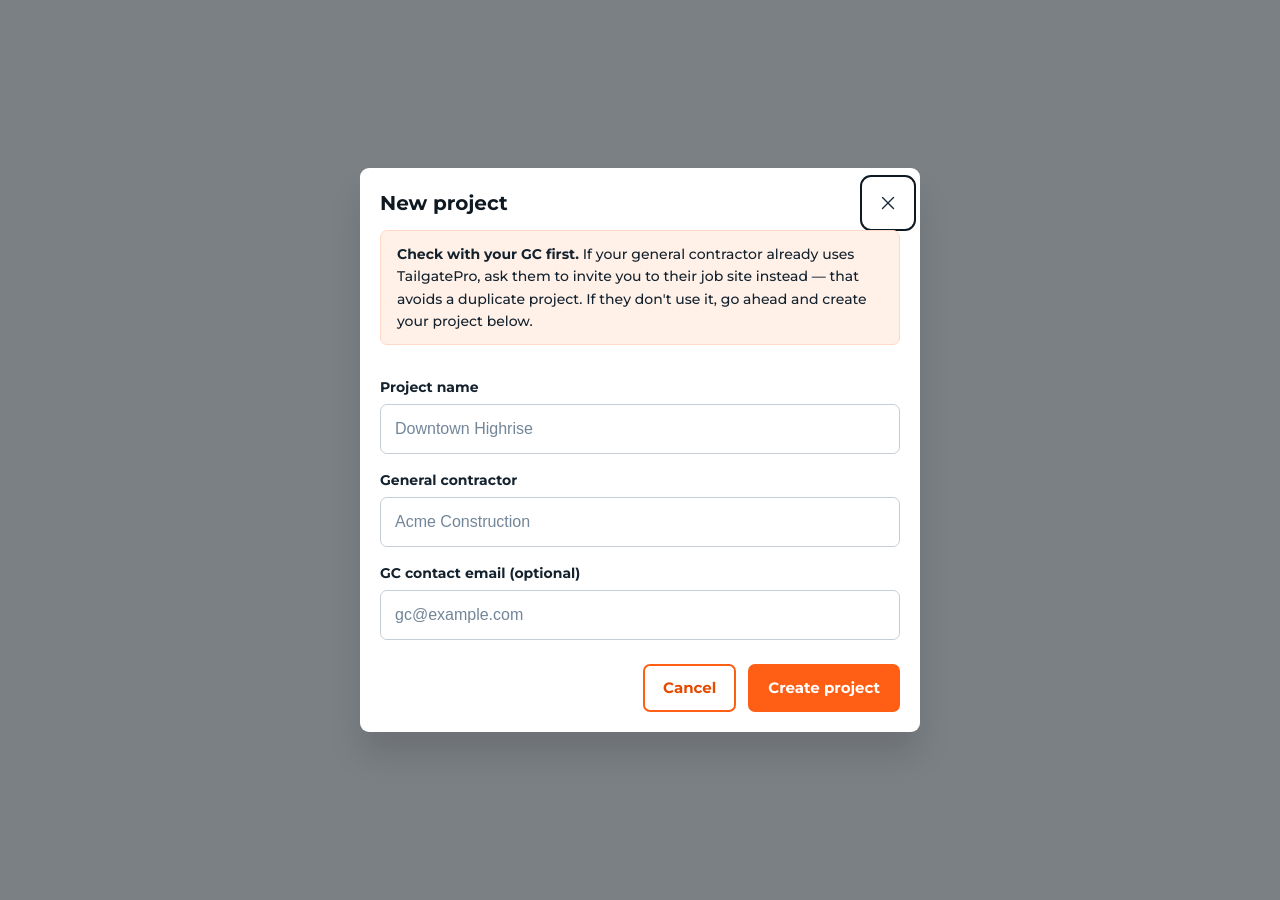
it: ProjectForm › shows validation errors and does not submit when fields are empty
The image size is (1280, 900).
Click the button "Create project". click: (824, 688)
box: [748,664,900,712]
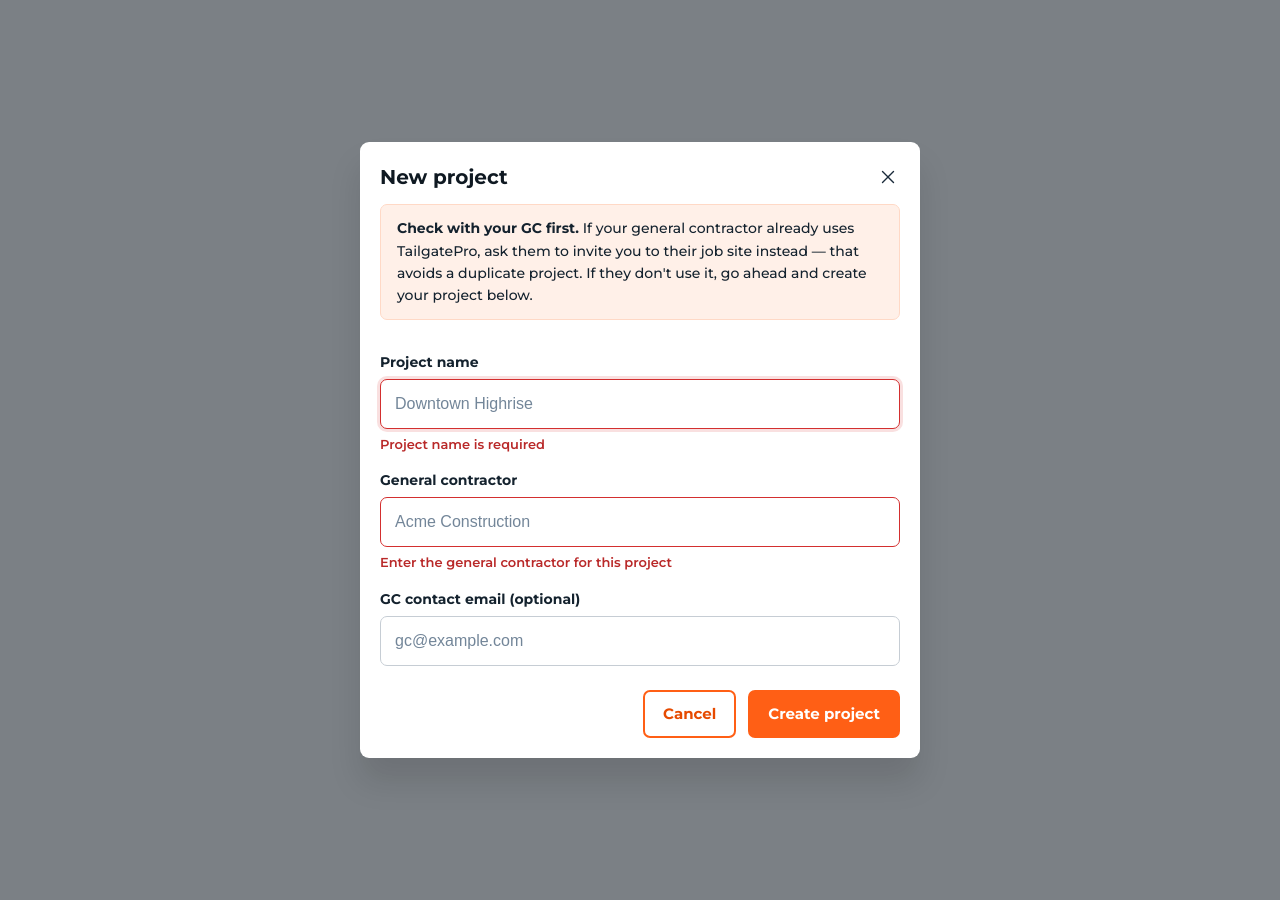
Expected: the text "Project name is required" is shown, [380,436,545,452]
Expected: the text "Enter the general contractor for this project" is shown, [380,554,672,570]
